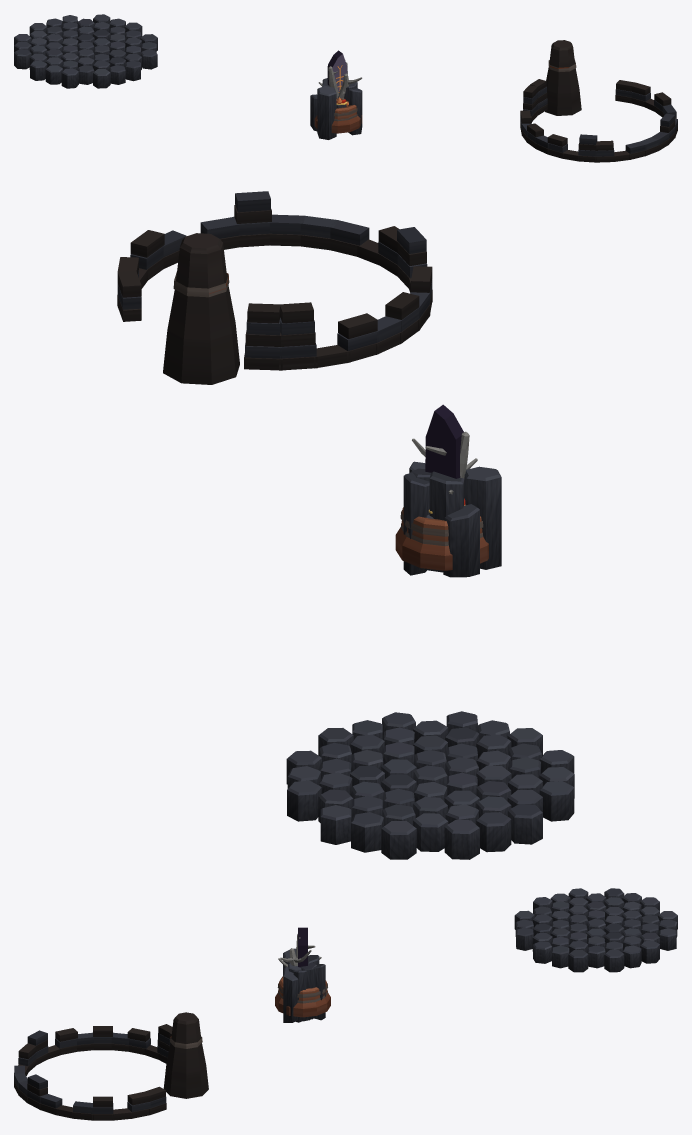
File: EmberPeak_Props.fbx
The picture shows the model from 3 angles, top to bottom: view 1: azimuth 30°, elevation 25°; view 2: azimuth 150°, elevation 25°; view 3: azimuth 270°, elevation 25°; orthographic projection. The views are drawn at different scales.
Visible parts, largest first — view 1: EP_AltarFloor, EP_ForgeWalls, EP_BasaltClusterB, EP_ForgeHearth, EP_BasaltClusterA, EP_SigilMonolith; view 2: EP_AltarFloor, EP_ForgeWalls, EP_BasaltClusterA, EP_BasaltClusterB, EP_ForgeHearth, EP_SigilMonolith; view 3: EP_AltarFloor, EP_ForgeWalls, EP_BasaltClusterA, EP_ForgeHearth, EP_BasaltClusterB, EP_SigilMonolith.
Part boxes in pixels (x1=…): EP_AltarFloor: x1=14, y1=14, x2=157, y2=88; EP_ForgeWalls: x1=520, y1=40, x2=677, y2=162; EP_BasaltClusterB: x1=317, y1=82, x2=357, y2=139; EP_ForgeHearth: x1=314, y1=105, x2=362, y2=133; EP_BasaltClusterA: x1=310, y1=78, x2=362, y2=135; EP_SigilMonolith: x1=327, y1=50, x2=347, y2=91; EP_AltarFloor: x1=286, y1=711, x2=574, y2=859; EP_ForgeWalls: x1=117, y1=191, x2=432, y2=384; EP_BasaltClusterA: x1=403, y1=471, x2=479, y2=577; EP_BasaltClusterB: x1=409, y1=461, x2=501, y2=569; EP_ForgeHearth: x1=395, y1=507, x2=488, y2=570; EP_SigilMonolith: x1=425, y1=404, x2=463, y2=478; EP_AltarFloor: x1=514, y1=888, x2=677, y2=972; EP_ForgeWalls: x1=14, y1=1012, x2=208, y2=1120; EP_BasaltClusterA: x1=283, y1=955, x2=325, y2=1022; EP_ForgeHearth: x1=275, y1=976, x2=330, y2=1017; EP_BasaltClusterB: x1=283, y1=948, x2=316, y2=1022; EP_SigilMonolith: x1=298, y1=927, x2=307, y2=967.
Size of the model in its own units: 83.6 by 15.53 by 99.57.
Materials: 1 (1 with a texture image).
